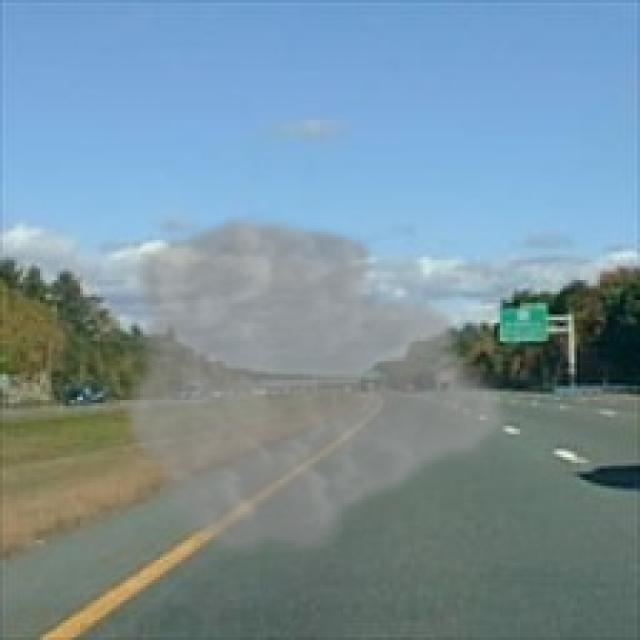Smoke: (120, 211, 517, 566)
